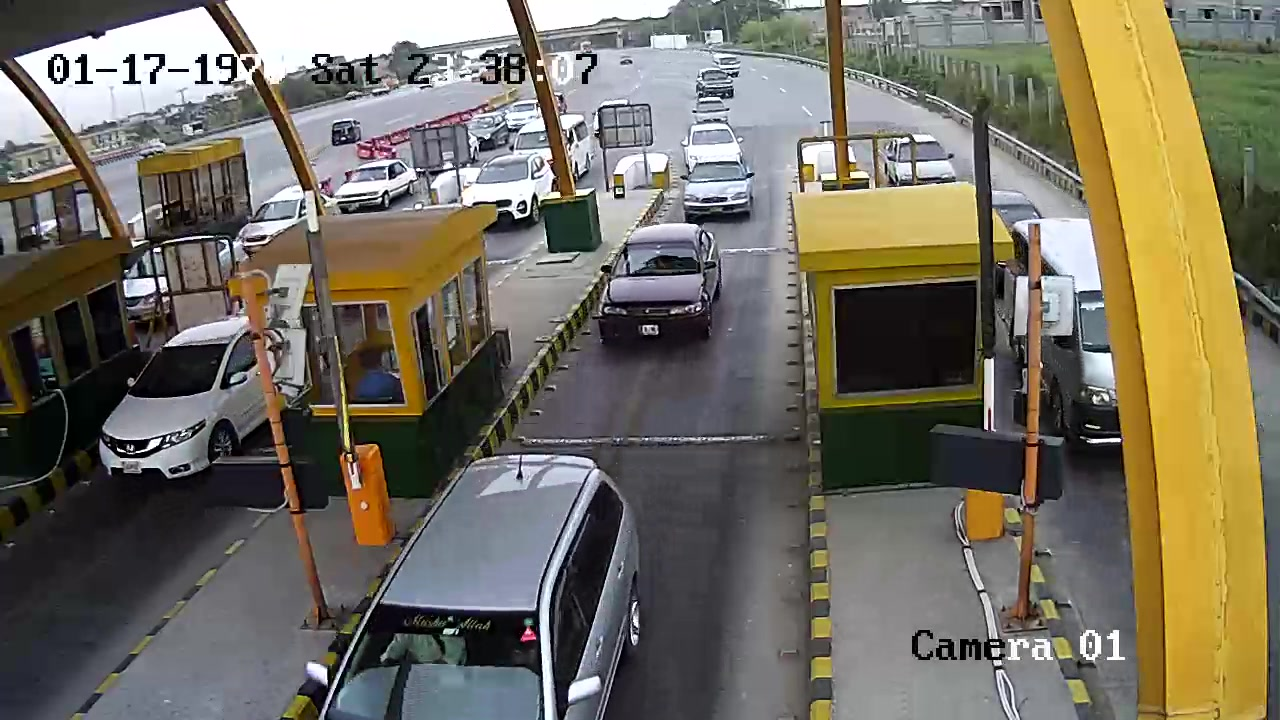F1: (588, 221, 749, 369)
